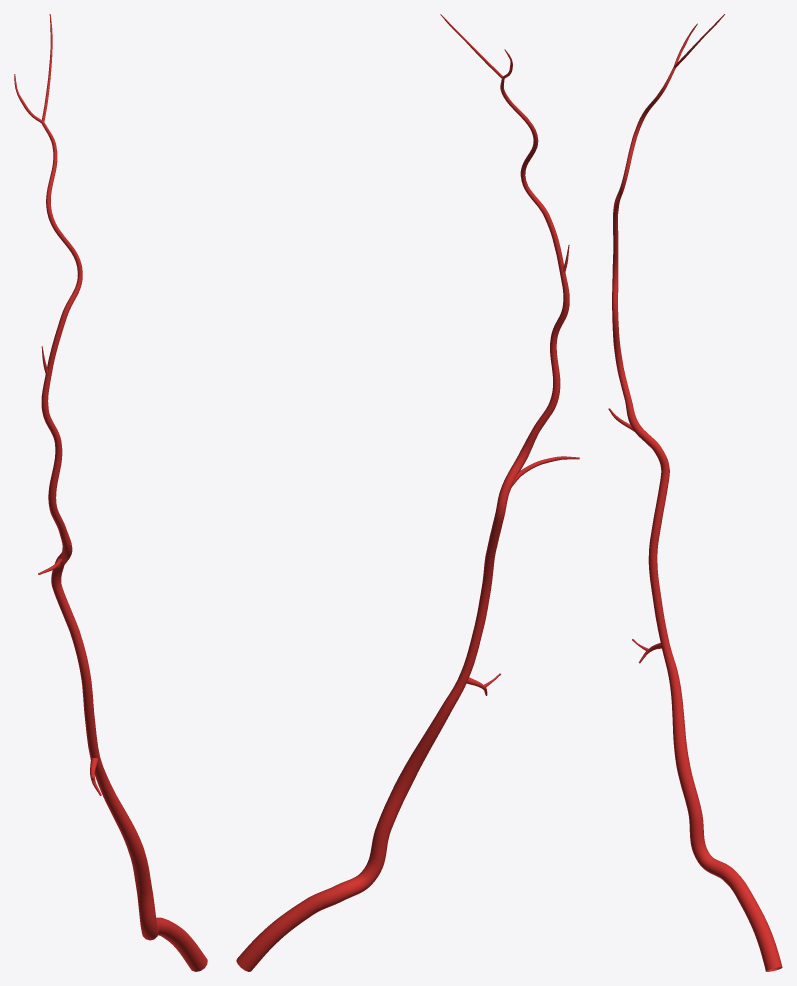
The model's file is circulatorio-angular-artery-l.glb.
The picture shows the model from 3 angles, left to right: view 1: azimuth 30°, elevation 25°; view 2: azimuth 150°, elevation 25°; view 3: azimuth 270°, elevation 25°; orthographic projection. The views are drawn at different scales.
Parts seen in each view (by area): view 1: Angular artery.l; view 2: Angular artery.l; view 3: Angular artery.l.
Boxes of the visible parts, left/top/right/bottom form: Angular artery.l: left=14, top=14, right=207, bottom=971; Angular artery.l: left=236, top=14, right=579, bottom=971; Angular artery.l: left=608, top=14, right=782, bottom=971.
Size of the model in its own units: 0.0304 by 0.113 by 0.0202.
